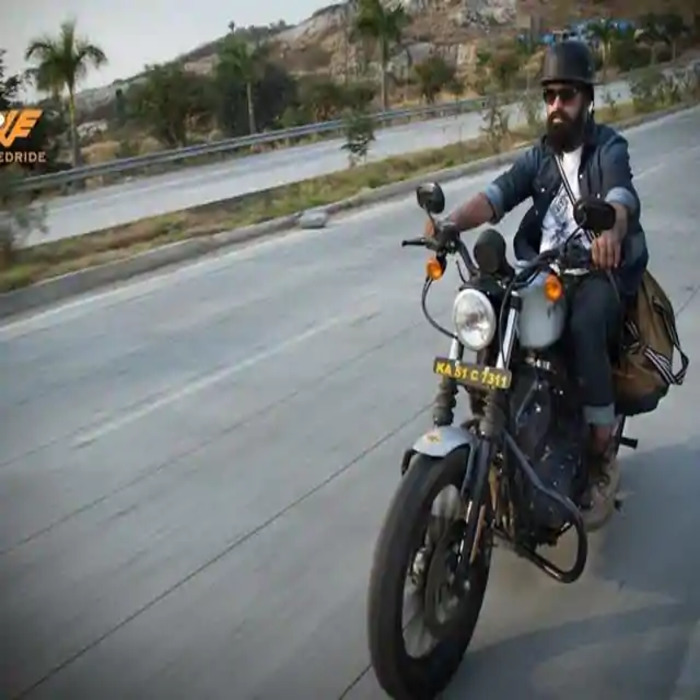h: (535, 39, 599, 88)
n: (432, 355, 514, 394)
